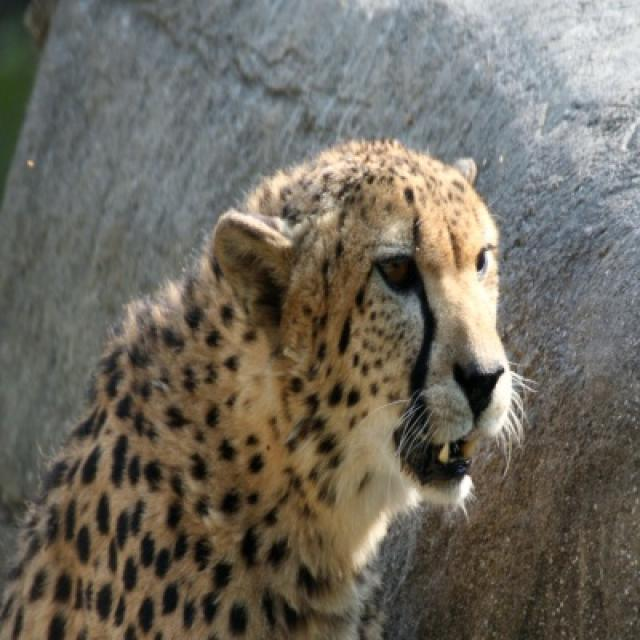Cheetah: (0, 141, 530, 638)
